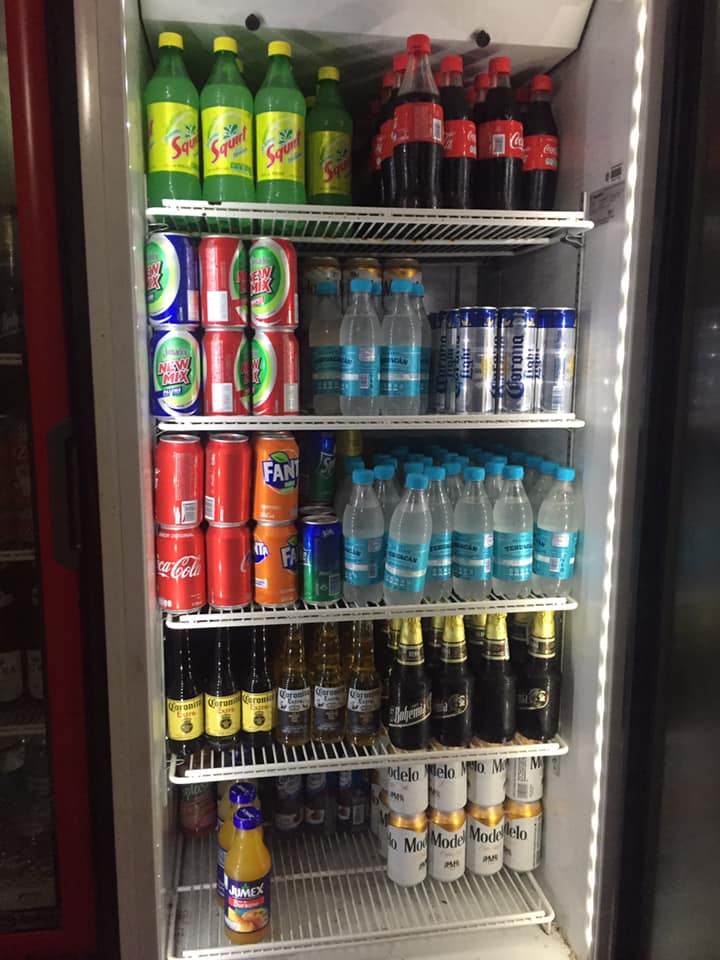cocacola: (154, 553, 200, 580)
coronaextra: (506, 333, 535, 404), (169, 701, 204, 717), (206, 697, 241, 713), (280, 691, 310, 703)
fanta: (262, 458, 299, 483)
jumex: (228, 884, 265, 898)
modelo: (430, 829, 466, 848), (389, 767, 420, 784)
newmix: (157, 360, 192, 385), (249, 268, 275, 298)
squirt: (210, 126, 249, 162), (266, 131, 302, 169)
